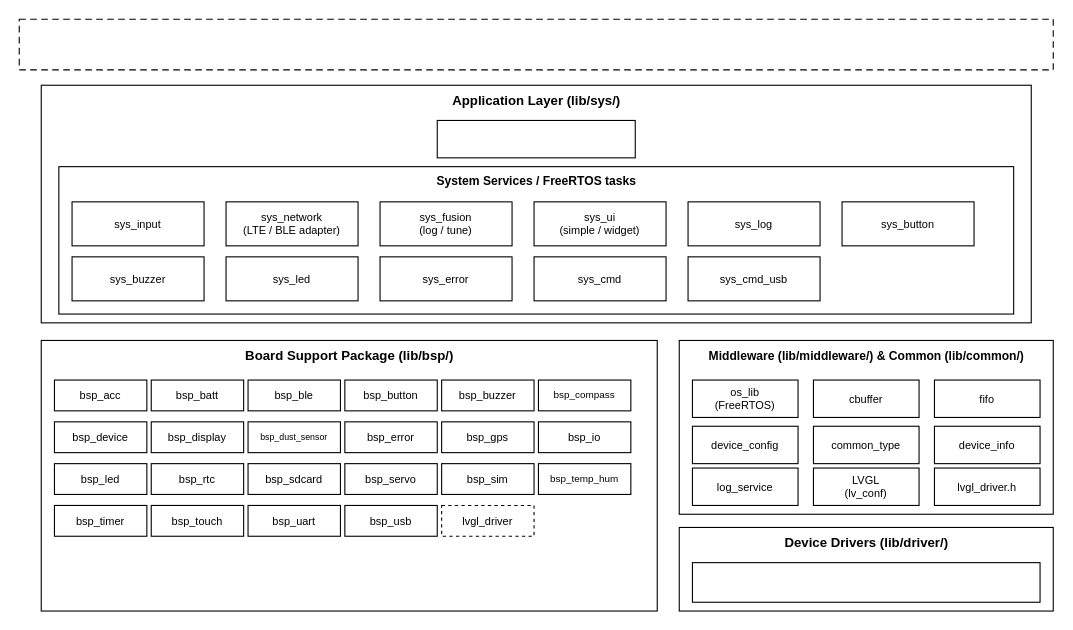
Some shapes in this 1073 by 630 pixel diagram are drawn without their labels. Here are the shapes that lost their labels. From the top down, the box of each, then its label:
(18, 18, 1053, 70): FIRMWARE ARCHITECTURE (ESP32-S3 IoT GPS Tracker)
(436, 119, 635, 158): sys_manager (coordinator)
(691, 562, 1040, 602): a7680c (A7680C cellular modem)
